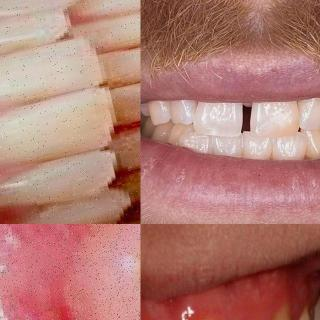Gum Swelling: (29, 224, 140, 320), (140, 309, 272, 320)
maligned: (272, 130, 312, 164), (177, 130, 213, 156)
